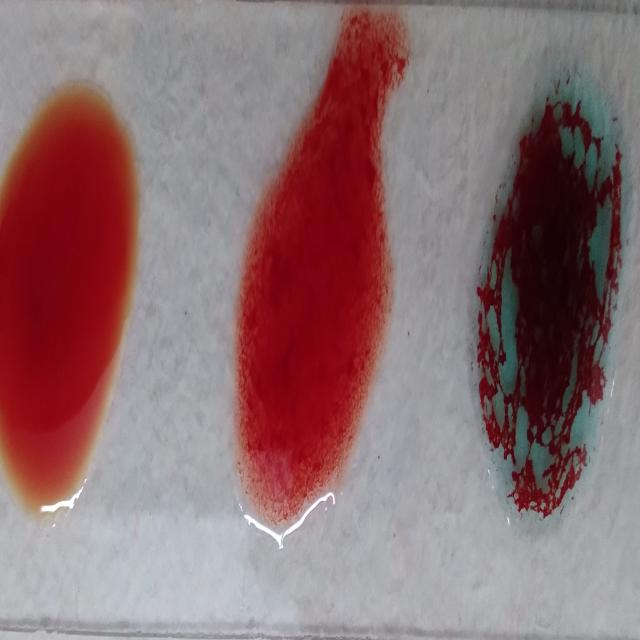A: (465, 47, 628, 533)
D: (245, 19, 391, 534)
